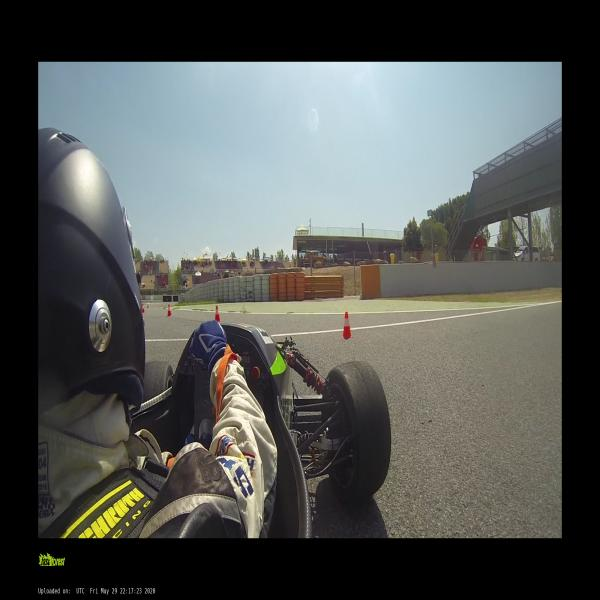orange_cone: (342, 311, 353, 338), (215, 306, 220, 320), (168, 304, 172, 317), (142, 303, 146, 313)
